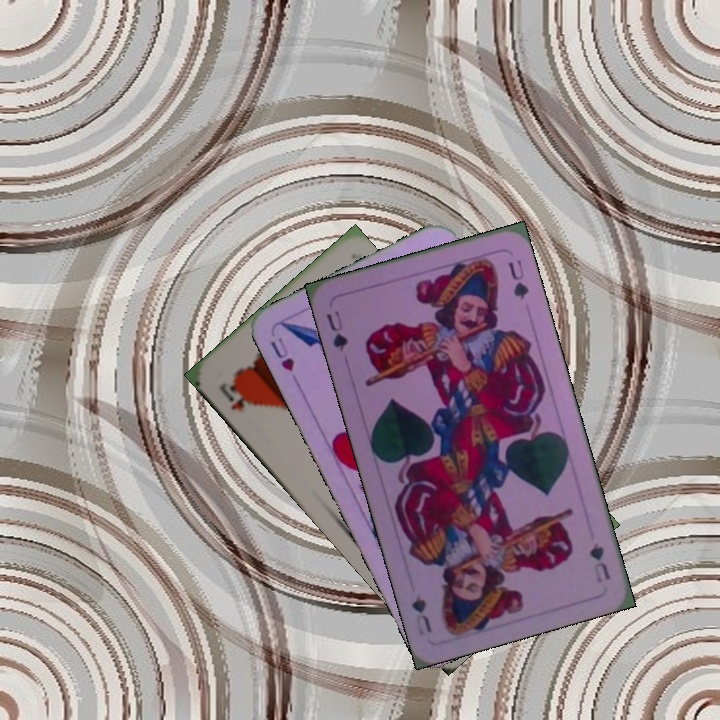GU: (322, 307, 351, 353), (585, 539, 613, 586)
HO: (215, 378, 257, 416)
HU: (266, 333, 298, 375)
